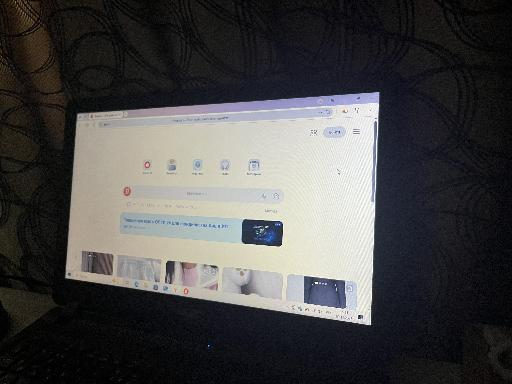yandex: (77, 125, 371, 282)
